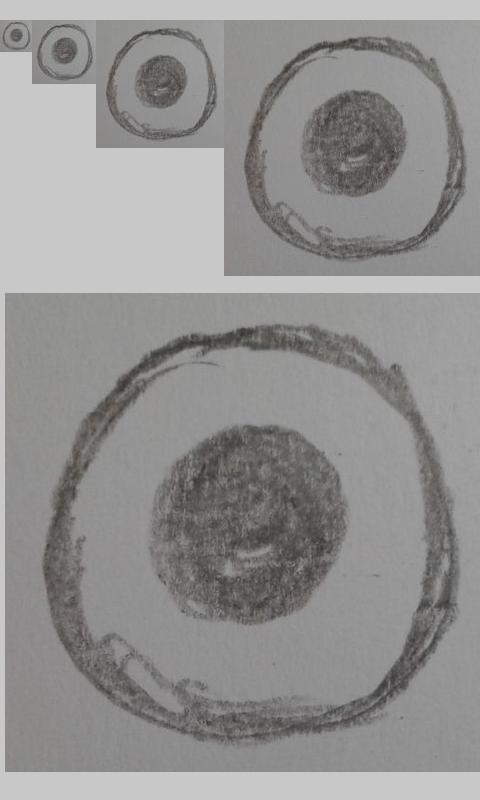radio_button: (41, 323, 460, 745), (241, 34, 466, 262), (106, 28, 217, 141), (36, 24, 93, 81), (2, 22, 30, 50)
